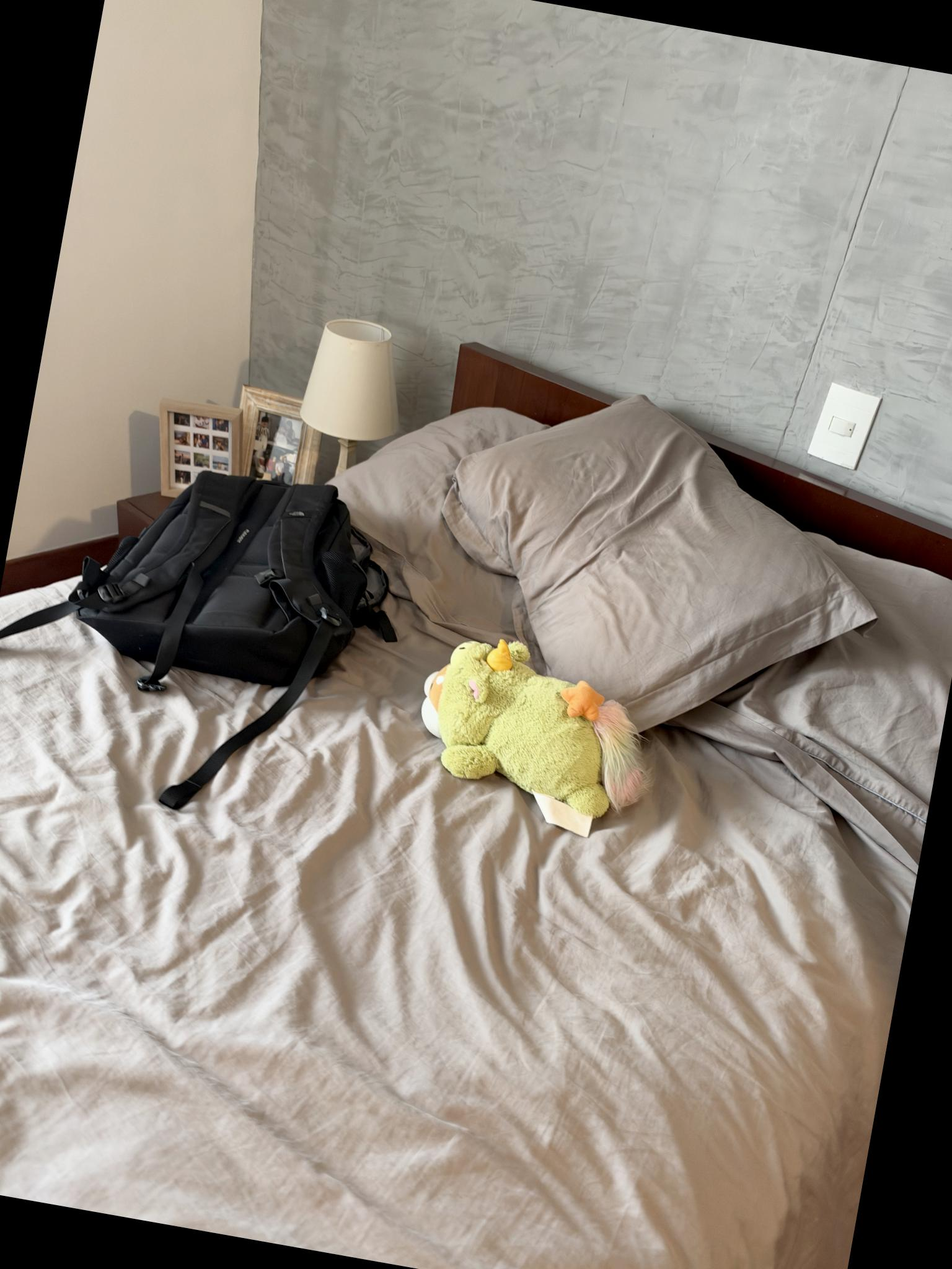peluche_martin: (406, 626, 672, 827)
